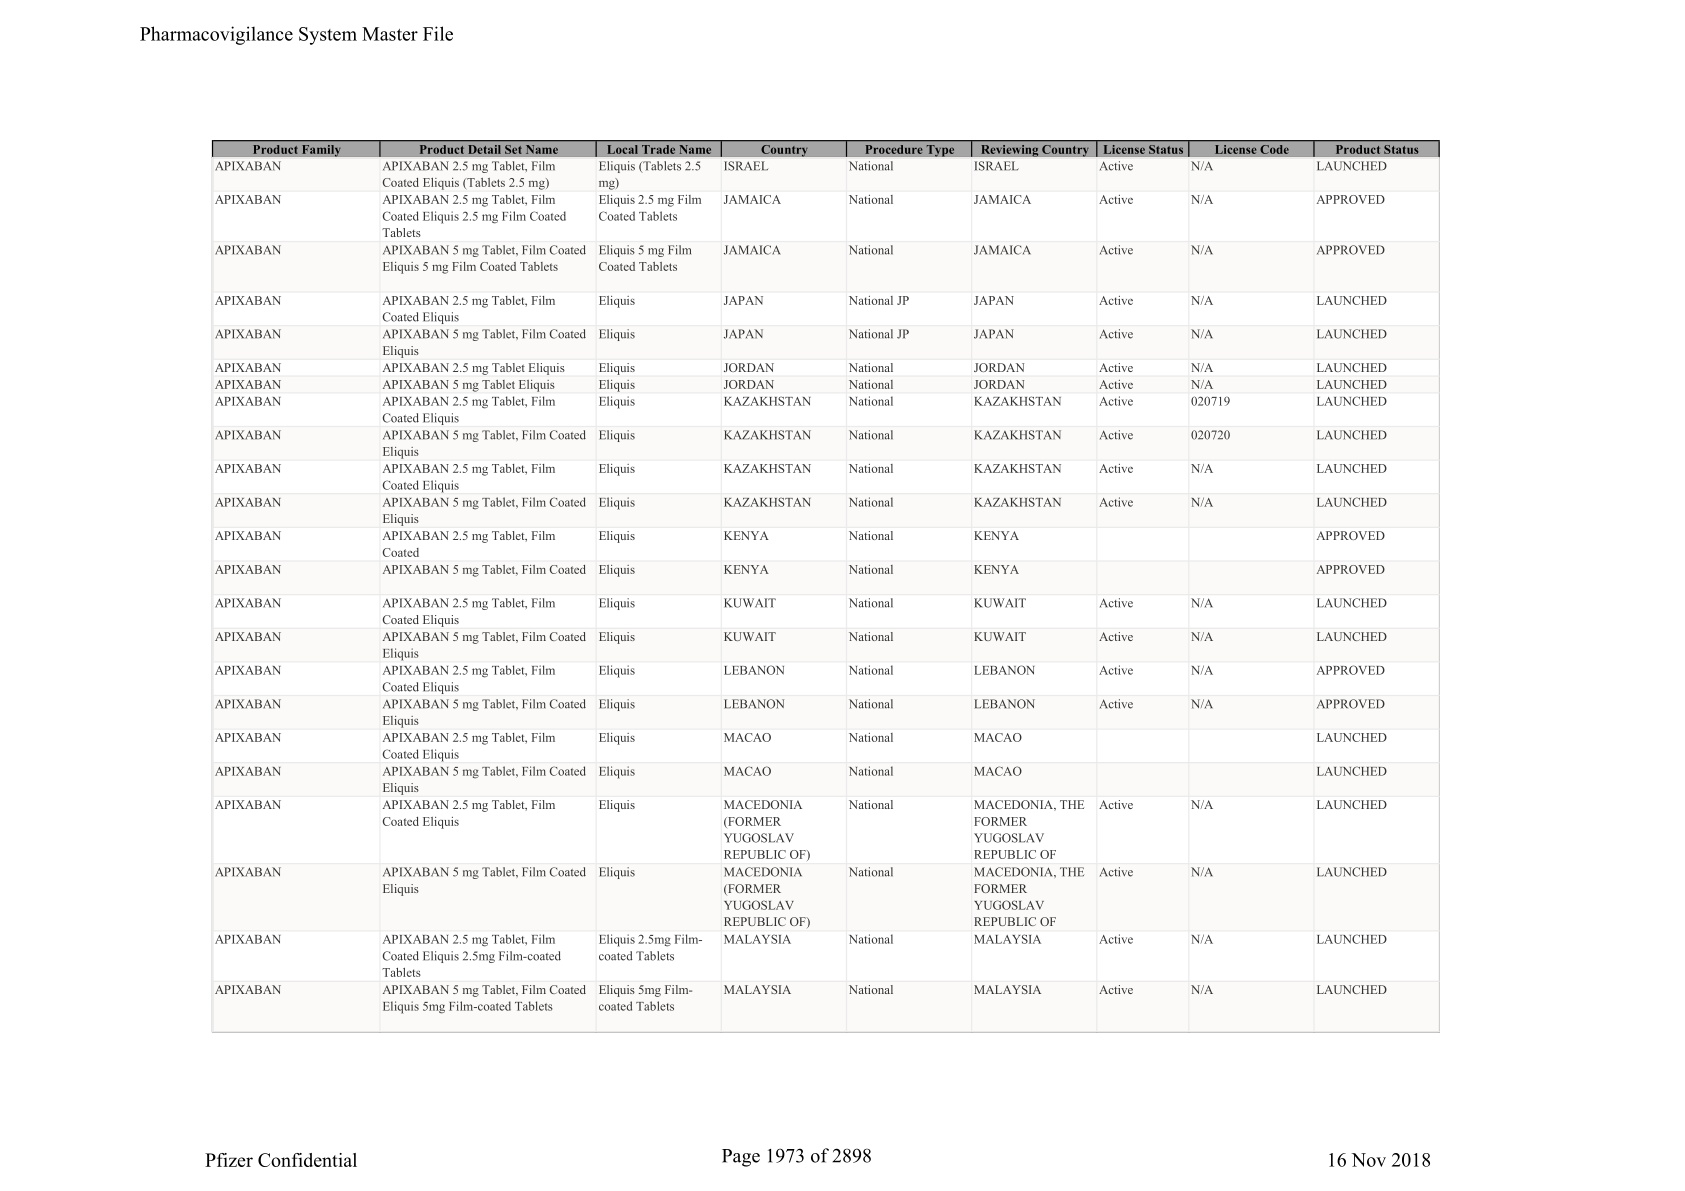full_lined: (210, 139, 1441, 1034)
